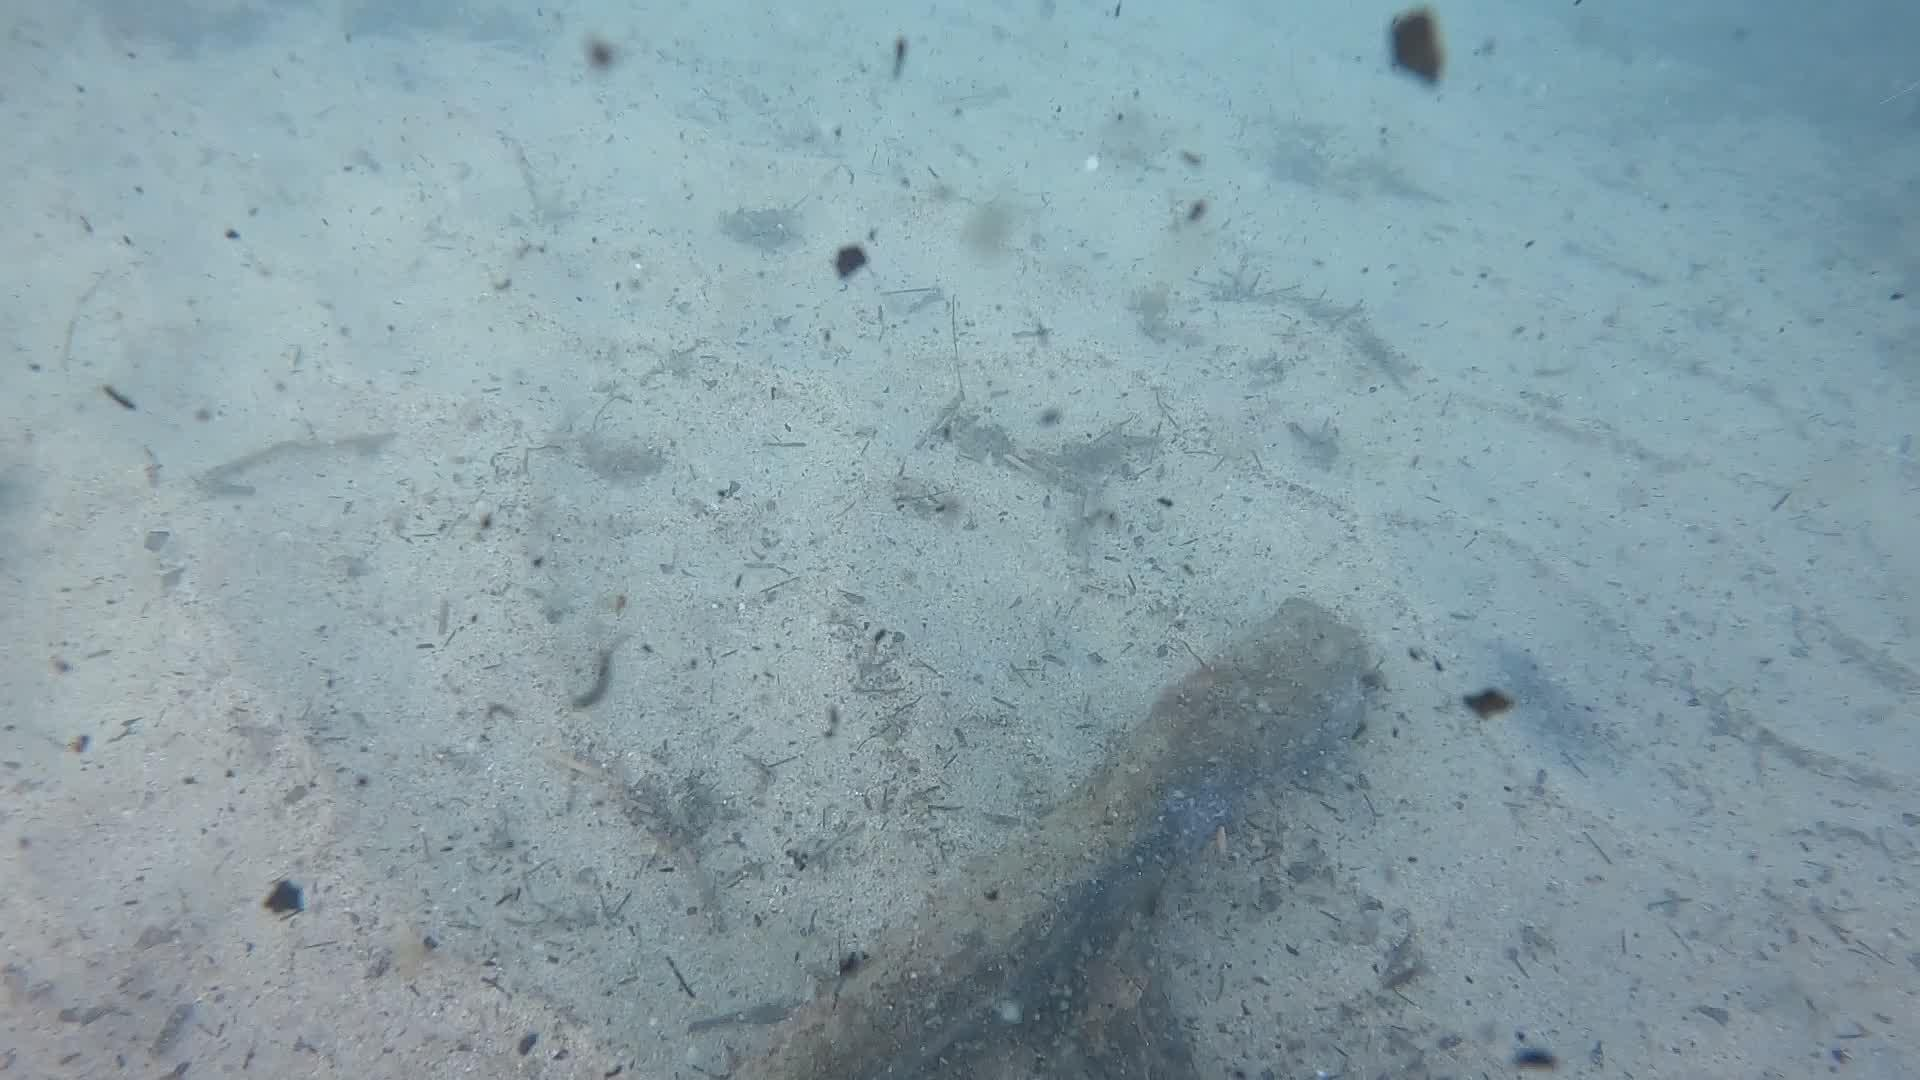wood: (713, 596, 1377, 1080)
